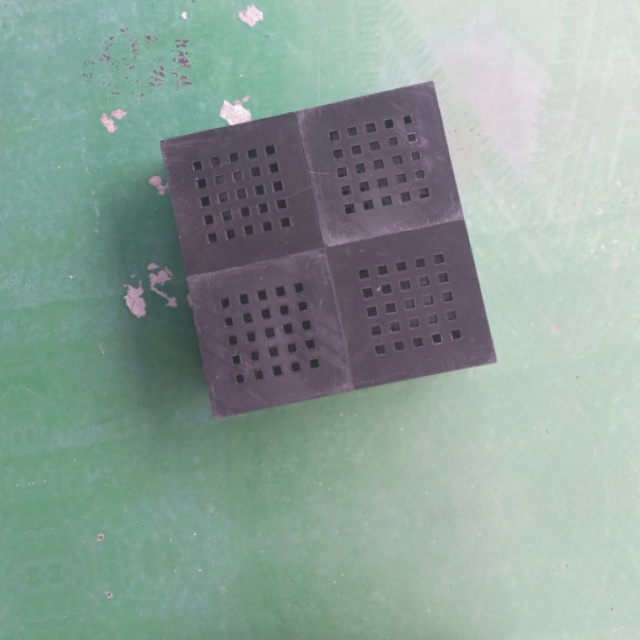pallet: (154, 74, 503, 421)
